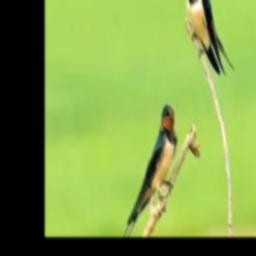Swallow: (123, 104, 177, 237), (185, 0, 234, 76)
